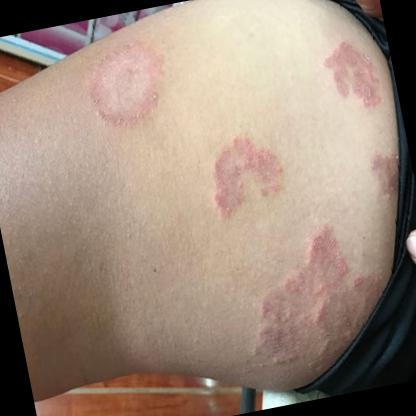Ringworm: (191, 116, 296, 239), (76, 26, 180, 142), (320, 30, 388, 114)
